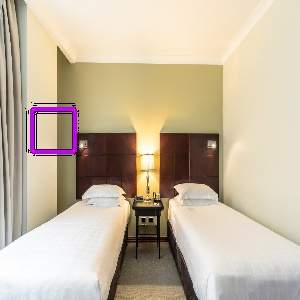square: (26, 103, 82, 155)
